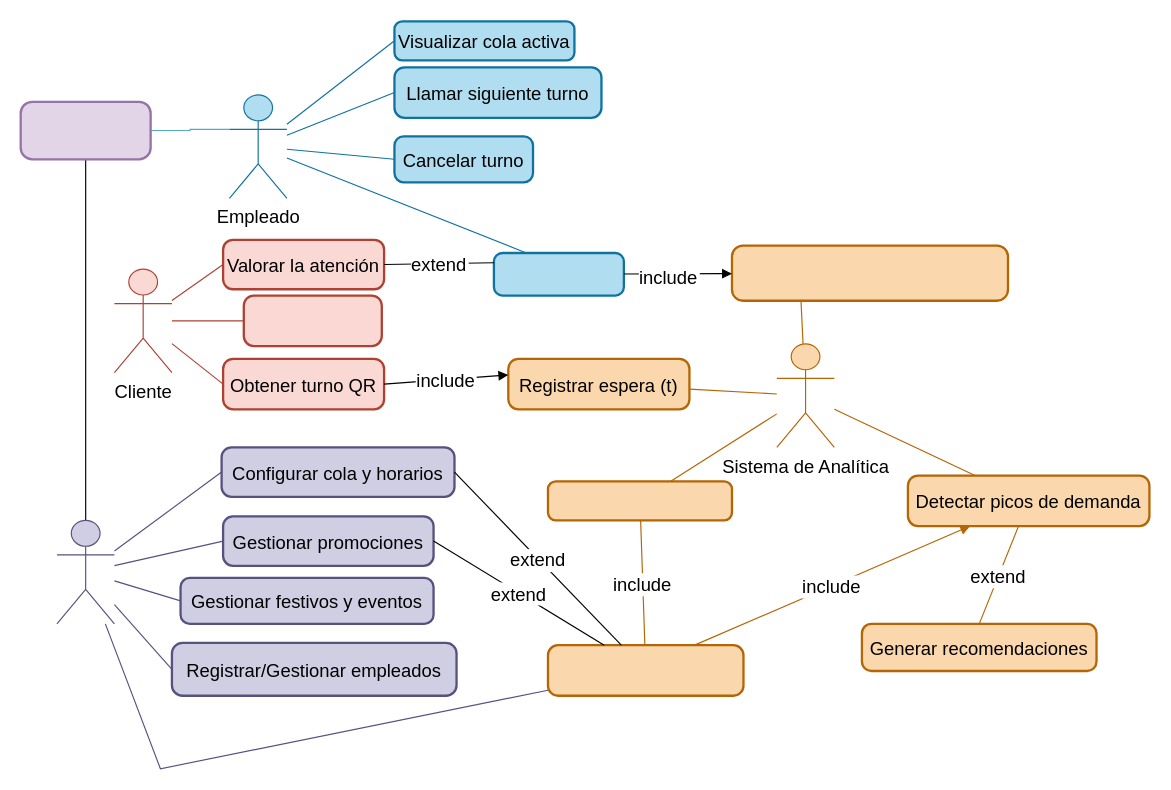
This 1171x790 diagram has some shape labels left out. The centre of each missing label's shape, as x and y in pixels:
"Administrador" goes at (85,571).
"Calcular métricas" goes at (639,500).
"Consultar cola" goes at (312,320).
"Consultar dashboard" goes at (645,669).
"Finalizar turno" goes at (558,273).
"Iniciar/cerrar Sesión" goes at (85,130).
"Registrar tiempos de atención" goes at (869,272).
